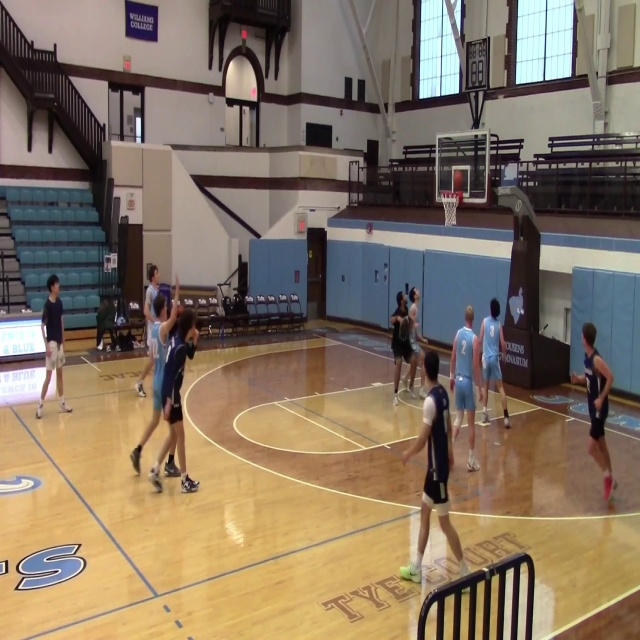Basketball: (452, 170, 463, 189), (240, 29, 248, 38)
